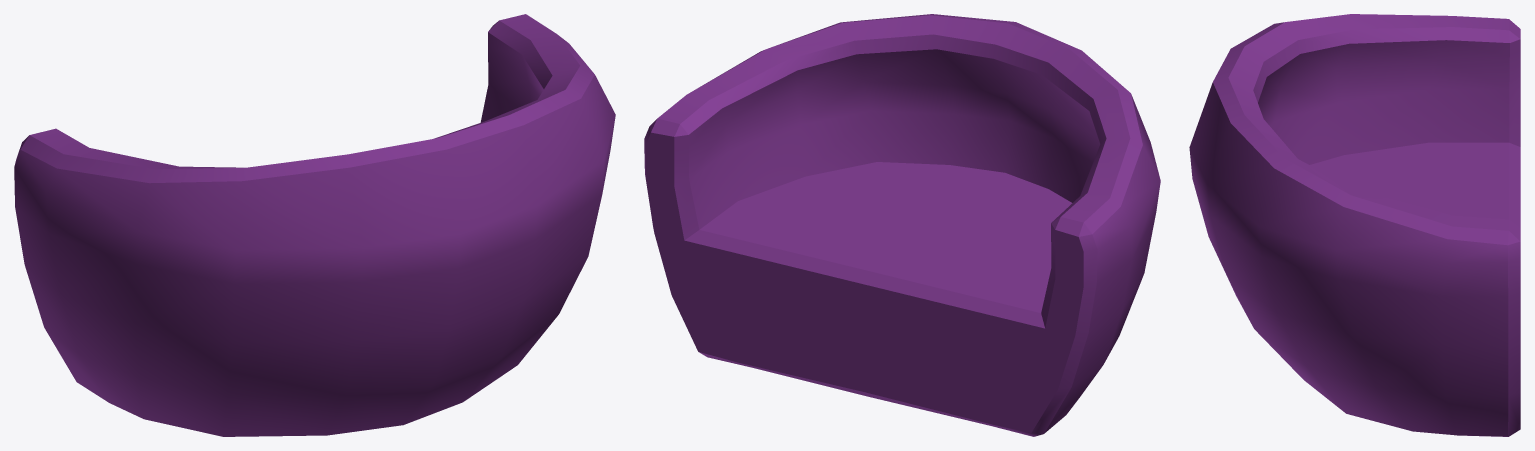
Rendered from fbx_club_roundsofa3.fbx.
3 renders of one model, left to right at view 1: azimuth 30°, elevation 25°; view 2: azimuth 150°, elevation 25°; view 3: azimuth 270°, elevation 25°, orthographic. The views are drawn at different scales.
Parts seen in each view (by area): view 1: fbx_club_roundsofa3; view 2: fbx_club_roundsofa3; view 3: fbx_club_roundsofa3.
Boxes of the visible parts, x1=… form: fbx_club_roundsofa3: x1=14, y1=14, x2=615, y2=436; fbx_club_roundsofa3: x1=644, y1=14, x2=1160, y2=436; fbx_club_roundsofa3: x1=1189, y1=14, x2=1520, y2=436.
Bounding box in the file's own units: 1.81 × 1.03 × 1.11.
Materials: 1 (1 with a texture image).
